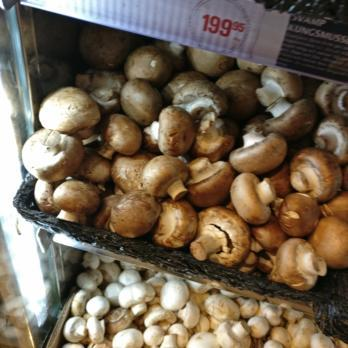Mushroom: (22, 87, 348, 220), (66, 268, 310, 348)
